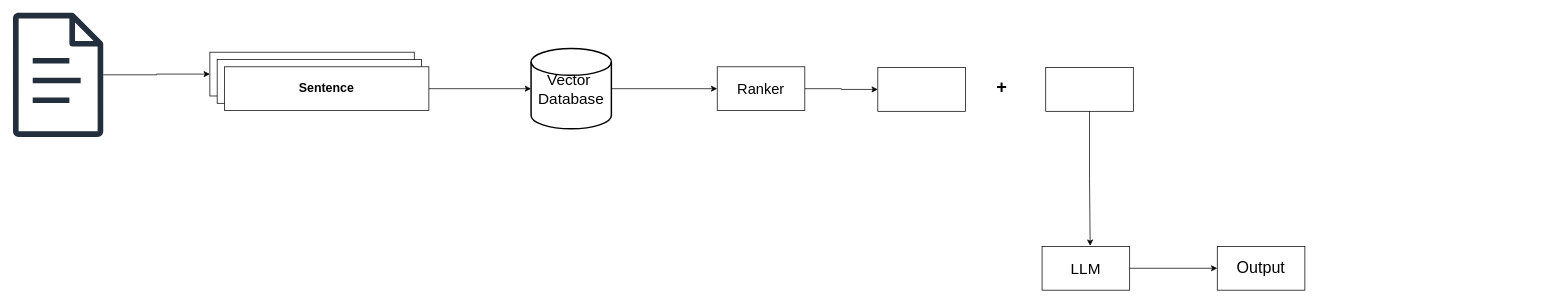
This 1554x303 diagram has some shape labels left out. Each missing label, with the centre of its shape:
"Documents" goes at point 57,74.
"Prompt" goes at point 921,89.
"Retrieved Documents" goes at point 1089,89.
